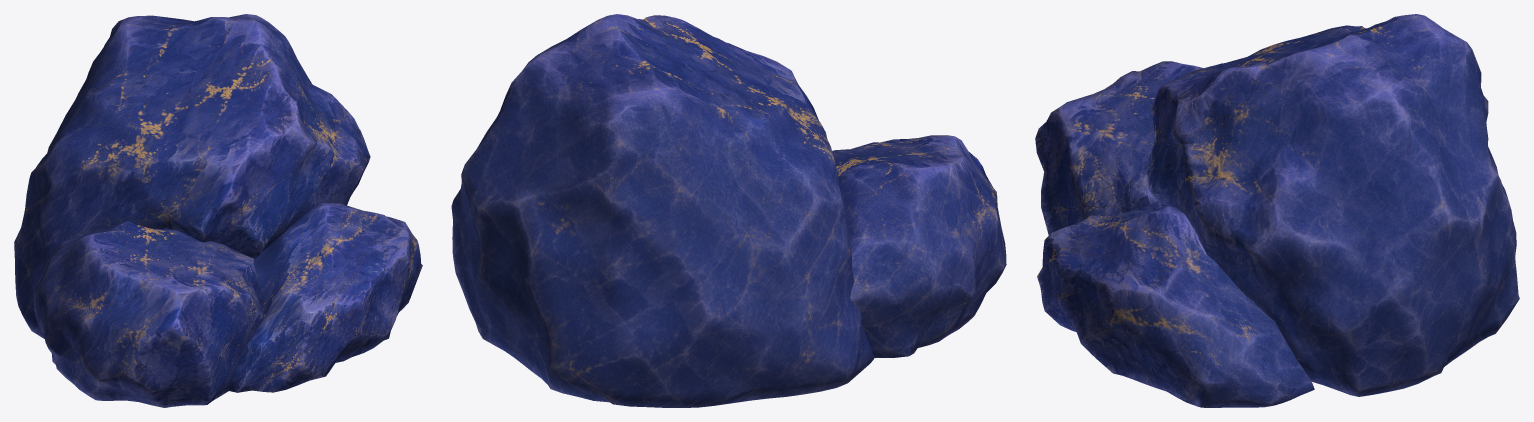
The model's file is boulder.glb.
3 views of the same model, side by side, from view 1: azimuth 30°, elevation 25°; view 2: azimuth 150°, elevation 25°; view 3: azimuth 270°, elevation 25° (orthographic). The views are drawn at different scales.
Size of the model in its own units: 0.9551 by 0.627 by 0.9189.
1 material, 1 textured.
